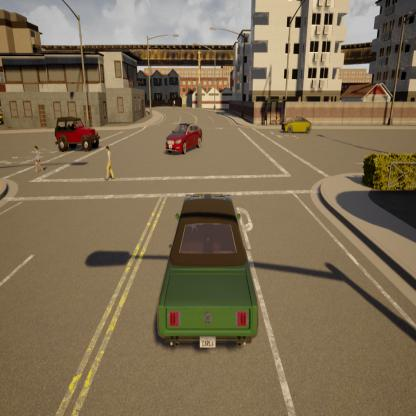Cars: (158, 196, 258, 347), (56, 118, 99, 151), (166, 123, 202, 153), (282, 116, 311, 134), (173, 99, 176, 108)
Pedestrian: (32, 143, 44, 174), (104, 145, 114, 182)
